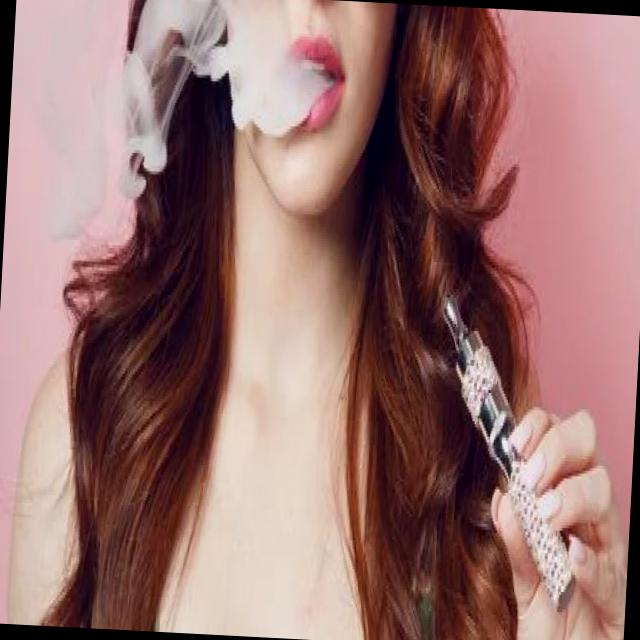cigarette: (424, 294, 590, 624)
